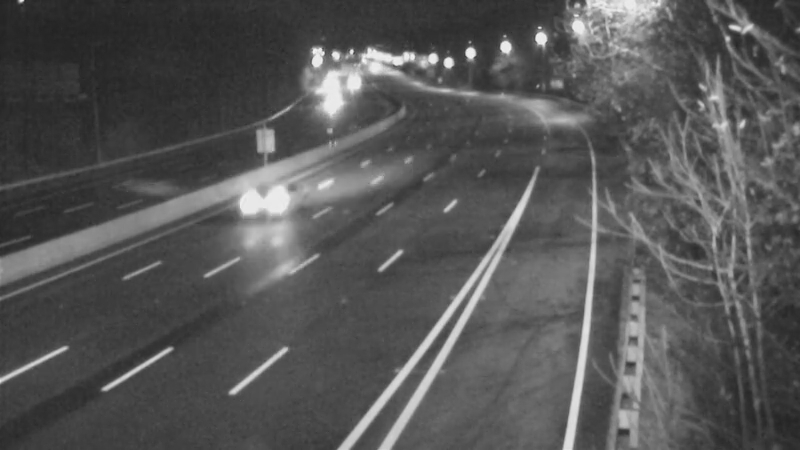vehicle: (236, 160, 316, 240), (304, 81, 354, 131), (332, 54, 382, 104)
